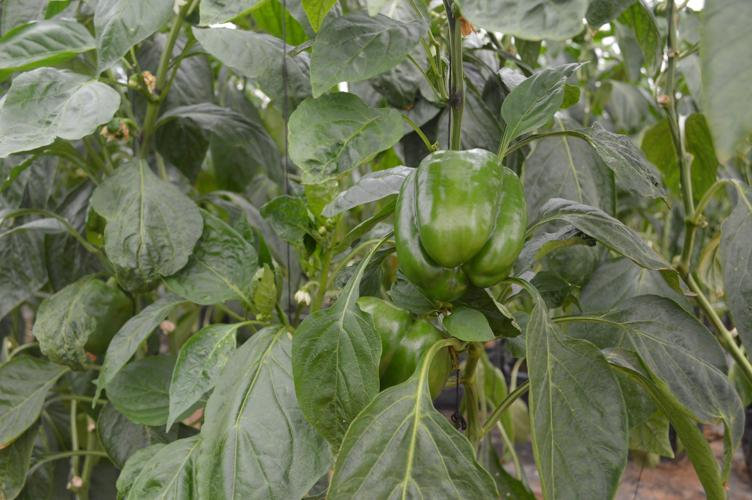BellPepper: (395, 147, 525, 297), (348, 297, 451, 397)
